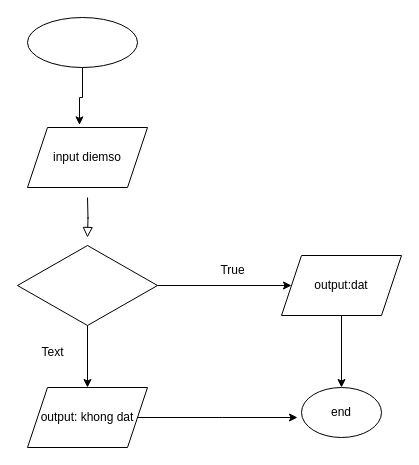
This 419x465 diagram has some shape labels left out. The shapes that lost their labels are listed below. From the top down, each one's centre as x and y in pixels, then its label:
the point at 82,42: Start
the point at 87,285: if diem so >= 5
